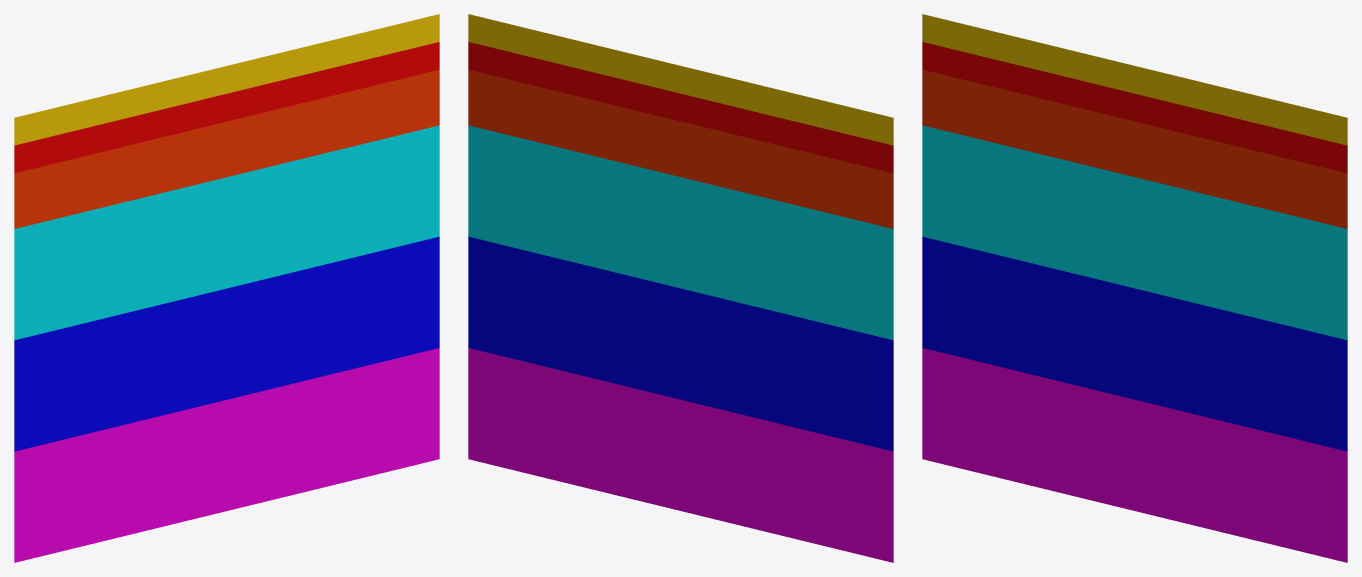
File: Trim_low.fbx
3 renders of one model, left to right at view 1: azimuth 30°, elevation 25°; view 2: azimuth 150°, elevation 25°; view 3: azimuth 330°, elevation 25°, orthographic.
Parts seen in each view (by area): view 1: Trim_low; view 2: Trim_low; view 3: Trim_low.
Boxes of the visible parts, x1,y1,x2,y2 form: Trim_low: (14,14,439,562); Trim_low: (468,14,893,562); Trim_low: (922,14,1347,562).
Bounding box in the file's own units: 157 × 157 × 1.24e-05.
